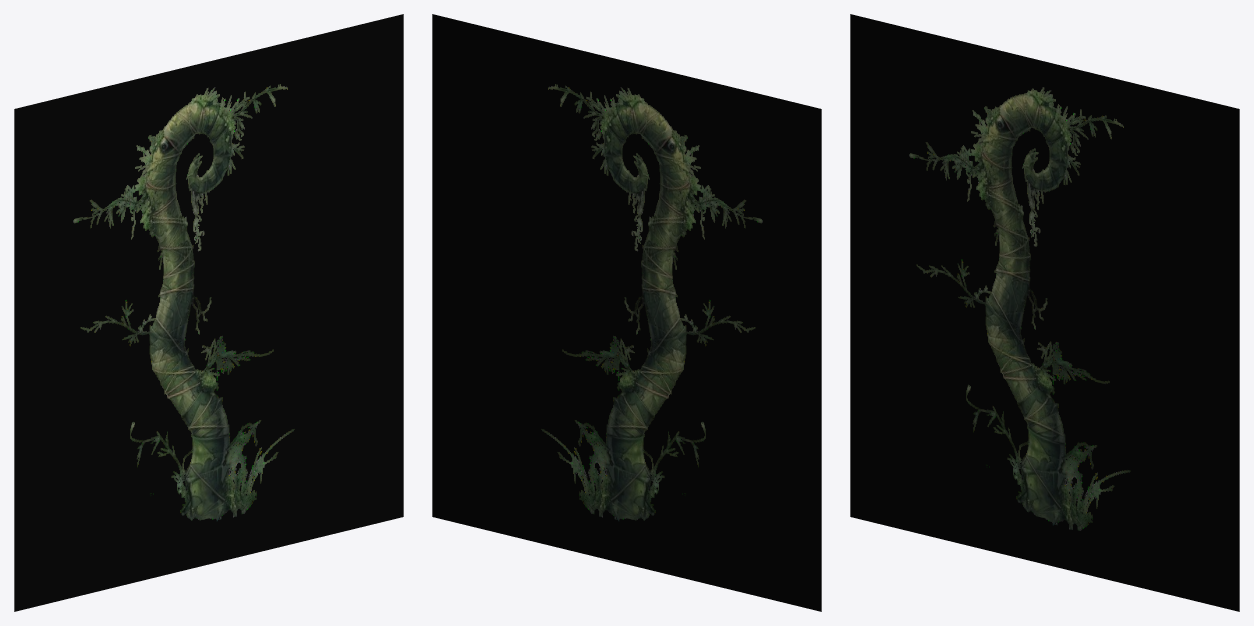
File: growing bamboo.fbx
The picture shows the model from 3 angles, left to right: view 1: azimuth 30°, elevation 25°; view 2: azimuth 150°, elevation 25°; view 3: azimuth 330°, elevation 25°; orthographic projection.
Visible parts, largest first — view 1: bamboo_ver1; view 2: bamboo_ver1; view 3: bamboo_ver1.
Part boxes in pixels (bbox=[...]): bamboo_ver1: bbox=[14, 14, 403, 611]; bamboo_ver1: bbox=[432, 14, 821, 611]; bamboo_ver1: bbox=[850, 14, 1239, 611].
Size of the model in its own units: 7.64 by 9.42 by 5.77e-16.
1 material, 1 textured.
